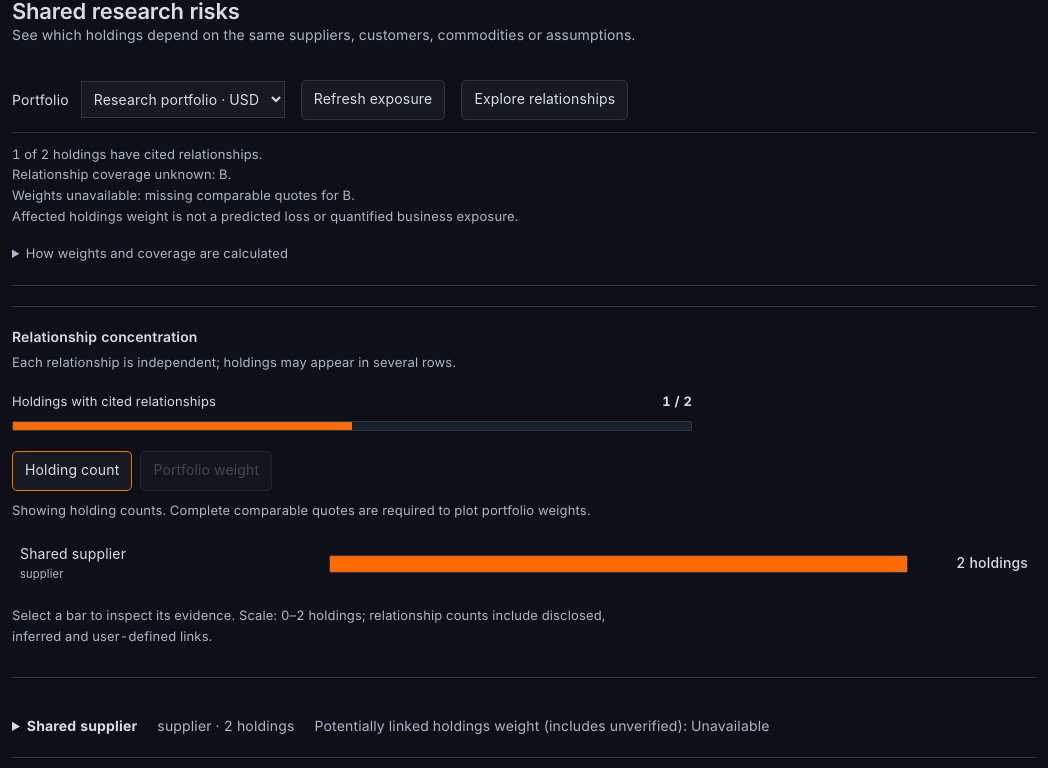
separates quoted weight, disclosed business share, unknown coverage, and portfolio loss
The width and height of the screenshot is (1048, 768).
Expected: the text "1 of 2 holdings have cited relationships." is shown, [12, 147, 262, 163]
Click the text "Shared supplier" at (82, 727), box [27, 718, 137, 735]
(page scrolled)
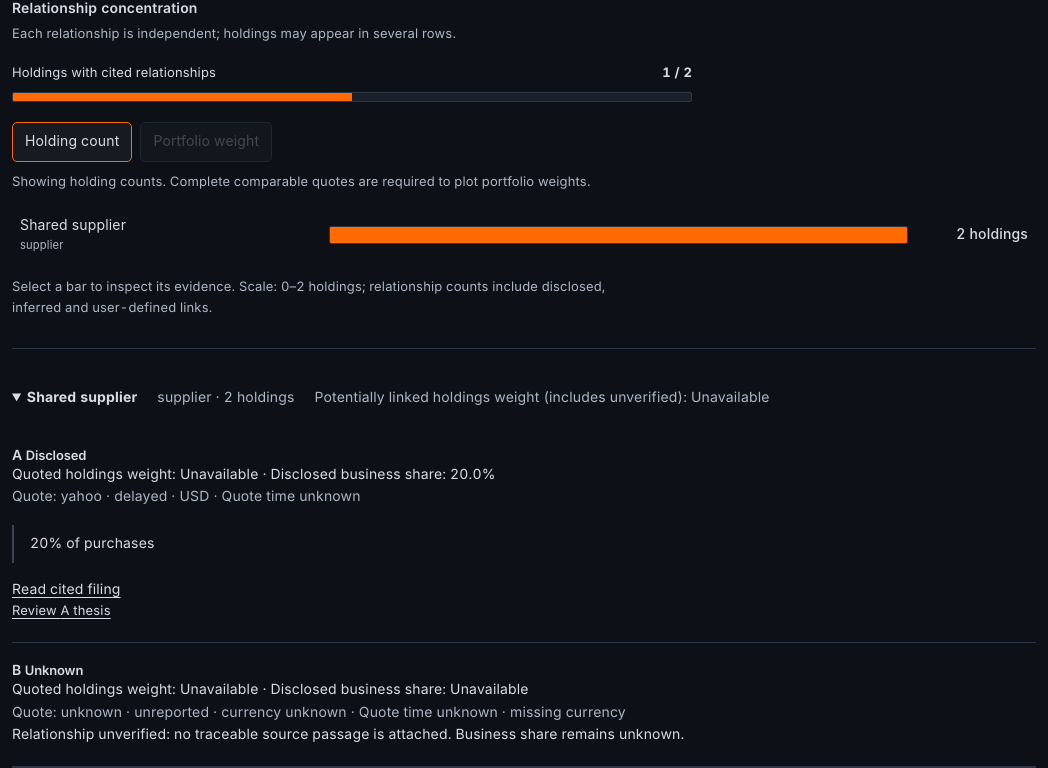
Expected: the text "Relationship unverified" is shown, [12, 726, 684, 743]
Expected: the text "Quoted holdings weight: Unavailable · Disclosed business share: 20.0%" is shown, [12, 466, 496, 483]
Expected: the text "Quote: yahoo · delayed · USD · Quote time unknown" is shown, [12, 488, 361, 505]
